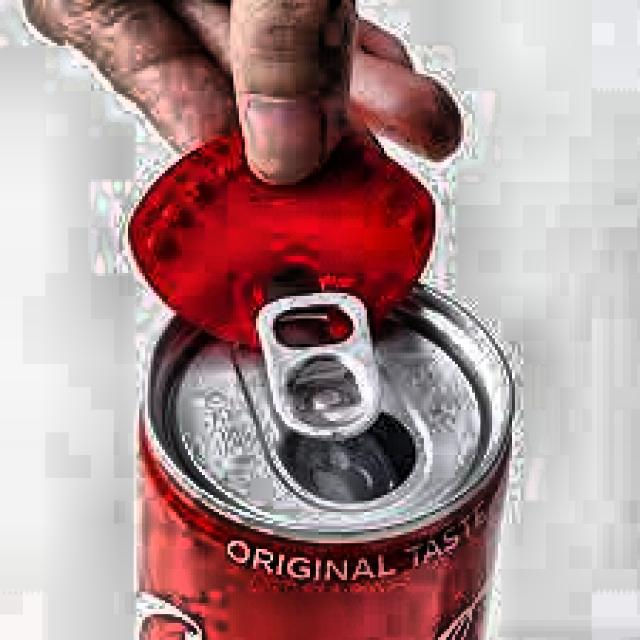can: (131, 256, 518, 640)
